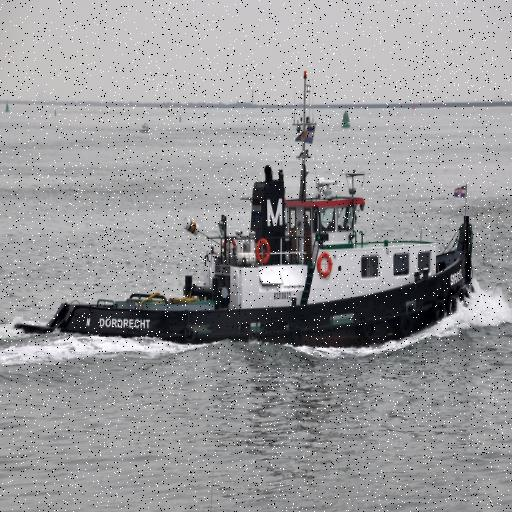tugboat: (14, 115, 481, 366)
